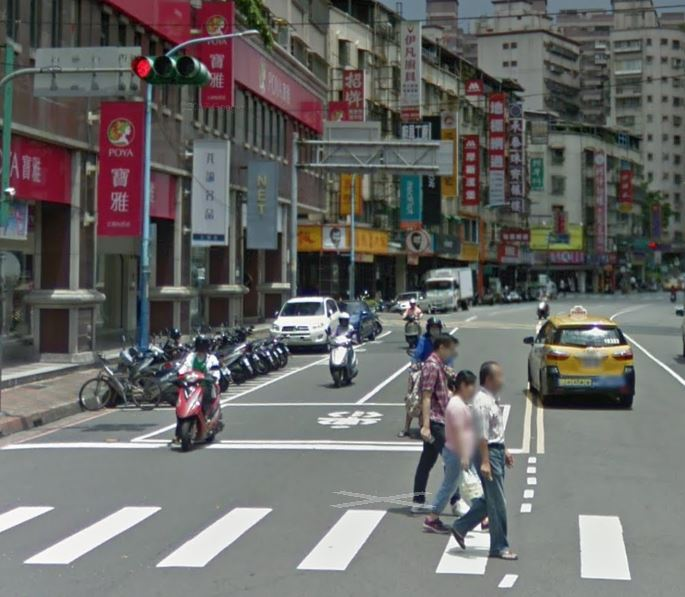Traffic_light_red: (130, 53, 205, 85)
car: (522, 304, 636, 411)
motorcycle: (169, 362, 224, 451), (324, 326, 360, 389)
